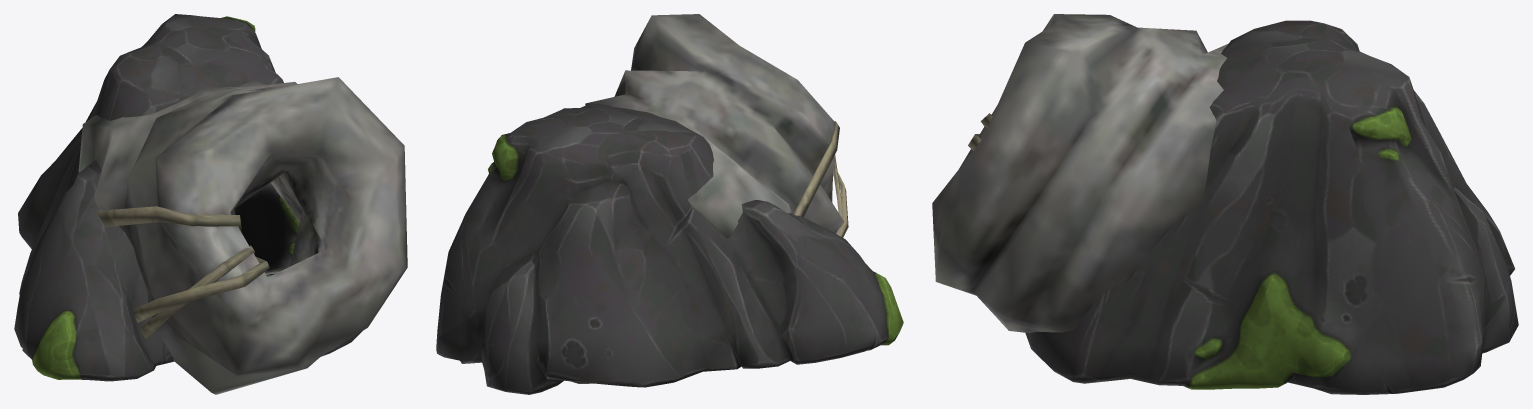
Rendered from Spawningpit.fbx.
3 renders of one model, left to right at view 1: azimuth 30°, elevation 25°; view 2: azimuth 150°, elevation 25°; view 3: azimuth 270°, elevation 25°, orthographic. The views are drawn at different scales.
Visible parts, largest first — view 1: node_id220, node_id243; view 2: node_id243, node_id220; view 3: node_id243, node_id220.
Boxes of the visible parts, x1,y1,x2,y2 form: node_id220: [78, 77, 407, 394]; node_id243: [14, 14, 362, 381]; node_id243: [436, 103, 903, 394]; node_id220: [585, 14, 848, 238]; node_id243: [1025, 20, 1518, 394]; node_id220: [932, 14, 1228, 332].
Bounding box in the file's own units: 0.512 × 0.4021 × 0.6179.
Materials: 2 (2 with a texture image).
